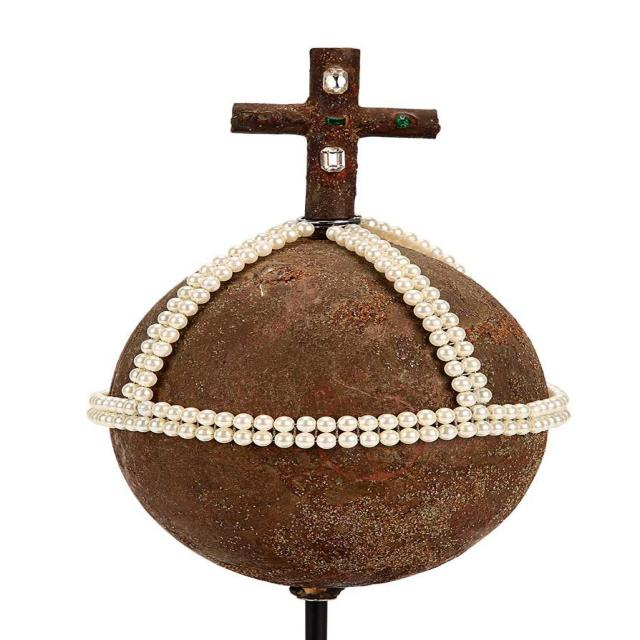grenade: (90, 48, 571, 600)
